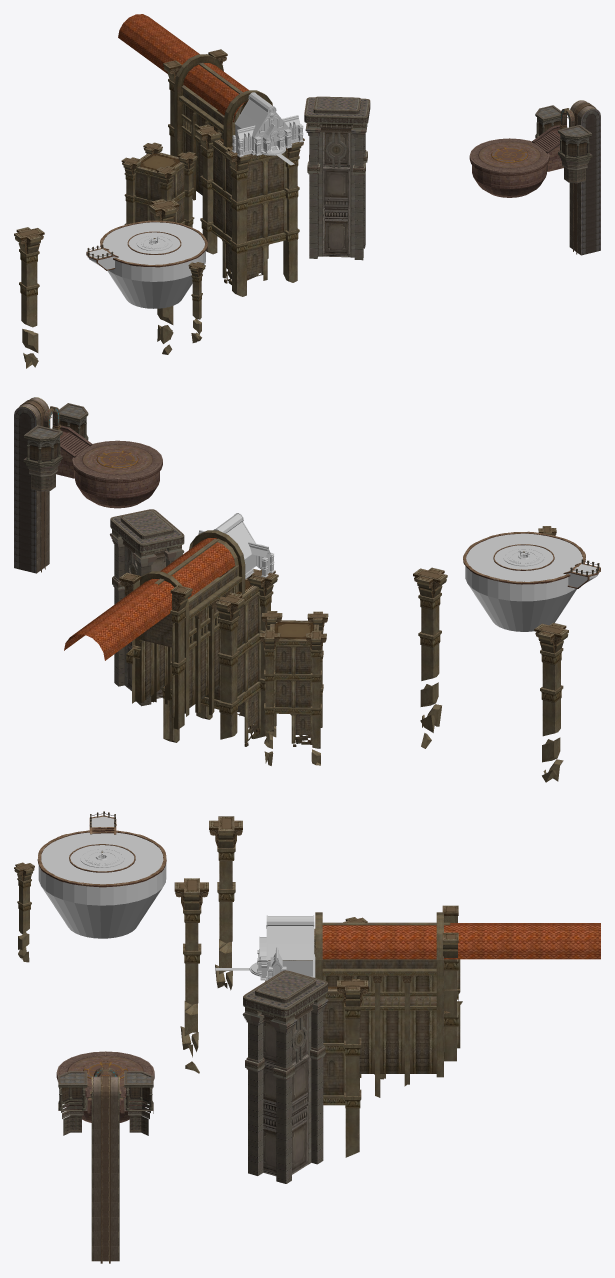
Rendered from zhucheng03-1.FBX.
3 views of the same model, one above another, from view 1: azimuth 30°, elevation 25°; view 2: azimuth 150°, elevation 25°; view 3: azimuth 270°, elevation 25° (orthographic). The views are drawn at different scales.
Parts seen in each view (by area): view 1: zhucheng03-jianzhu15A, zhucheng03-jianzhu11, zhucheng03-jianzhu20, zhucheng03-jianzhu16, zhucheng03-jianzhu05, zhucheng03-jianzhu13, zhucheng03-jianzhu12, zhucheng03-jianzhu08, zhucheng03-jianzhu10, zhucheng03-jianzhu02, zhucheng03-jianzhu07, zhucheng03-jianzhu21 (+1 smaller); view 2: zhucheng03-jianzhu15A, zhucheng03-jianzhu20, zhucheng03-jianzhu16, zhucheng03-jianzhu05, zhucheng03-jianzhu12, zhucheng03-jianzhu08, zhucheng03-jianzhu10, zhucheng03-jianzhu11, zhucheng03-jianzhu02, zhucheng03-jianzhu07, zhucheng03-jianzhu21, zhucheng03-jianzhu13 (+1 smaller); view 3: zhucheng03-jianzhu15A, zhucheng03-jianzhu11, zhucheng03-jianzhu20, zhucheng03-jianzhu16, zhucheng03-jianzhu05, zhucheng03-jianzhu12, zhucheng03-jianzhu13, zhucheng03-jianzhu02, zhucheng03-jianzhu21, zhucheng03-jianzhu03, zhucheng03-jianzhu07, zhucheng03-jianzhu10.
Part boxes in pixels (x1=…): zhucheng03-jianzhu15A: x1=14, y1=49, x2=304, y2=368; zhucheng03-jianzhu11: x1=309, y1=132, x2=365, y2=260; zhucheng03-jianzhu20: x1=87, y1=222, x2=205, y2=308; zhucheng03-jianzhu16: x1=118, y1=14, x2=249, y2=122; zhucheng03-jianzhu05: x1=569, y1=100, x2=600, y2=255; zhucheng03-jianzhu13: x1=232, y1=92, x2=303, y2=165; zhucheng03-jianzhu12: x1=304, y1=96, x2=370, y2=175; zhucheng03-jianzhu08: x1=472, y1=128, x2=563, y2=197; zhucheng03-jianzhu10: x1=469, y1=125, x2=560, y2=176; zhucheng03-jianzhu02: x1=535, y1=106, x2=592, y2=165; zhucheng03-jianzhu07: x1=479, y1=142, x2=540, y2=167; zhucheng03-jianzhu21: x1=86, y1=220, x2=207, y2=270; zhucheng03-jianzhu15A: x1=119, y1=526, x2=568, y2=782; zhucheng03-jianzhu20: x1=465, y1=533, x2=599, y2=631; zhucheng03-jianzhu16: x1=64, y1=538, x2=235, y2=660; zhucheng03-jianzhu05: x1=14, y1=397, x2=49, y2=573; zhucheng03-jianzhu12: x1=110, y1=509, x2=184, y2=590; zhucheng03-jianzhu08: x1=56, y1=428, x2=159, y2=508; zhucheng03-jianzhu10: x1=60, y1=425, x2=162, y2=483; zhucheng03-jianzhu11: x1=114, y1=544, x2=174, y2=706; zhucheng03-jianzhu02: x1=23, y1=404, x2=88, y2=471; zhucheng03-jianzhu07: x1=82, y1=444, x2=152, y2=474; zhucheng03-jianzhu21: x1=463, y1=531, x2=600, y2=588; zhucheng03-jianzhu13: x1=198, y1=513, x2=274, y2=579; zhucheng03-jianzhu15A: x1=14, y1=816, x2=462, y2=1157; zhucheng03-jianzhu11: x1=248, y1=1010, x2=323, y2=1183; zhucheng03-jianzhu20: x1=38, y1=816, x2=166, y2=938; zhucheng03-jianzhu16: x1=322, y1=923, x2=600, y2=959; zhucheng03-jianzhu05: x1=91, y1=1076, x2=119, y2=1263; zhucheng03-jianzhu12: x1=242, y1=970, x2=328, y2=1080; zhucheng03-jianzhu13: x1=215, y1=915, x2=315, y2=981; zhucheng03-jianzhu02: x1=58, y1=1072, x2=153, y2=1113; zhucheng03-jianzhu21: x1=37, y1=811, x2=166, y2=887; zhucheng03-jianzhu03: x1=58, y1=1071, x2=153, y2=1135; zhucheng03-jianzhu07: x1=68, y1=1056, x2=143, y2=1086; zhucheng03-jianzhu10: x1=56, y1=1051, x2=154, y2=1096.
Bounding box in the file's own units: 111 × 38.76 × 86.35.
